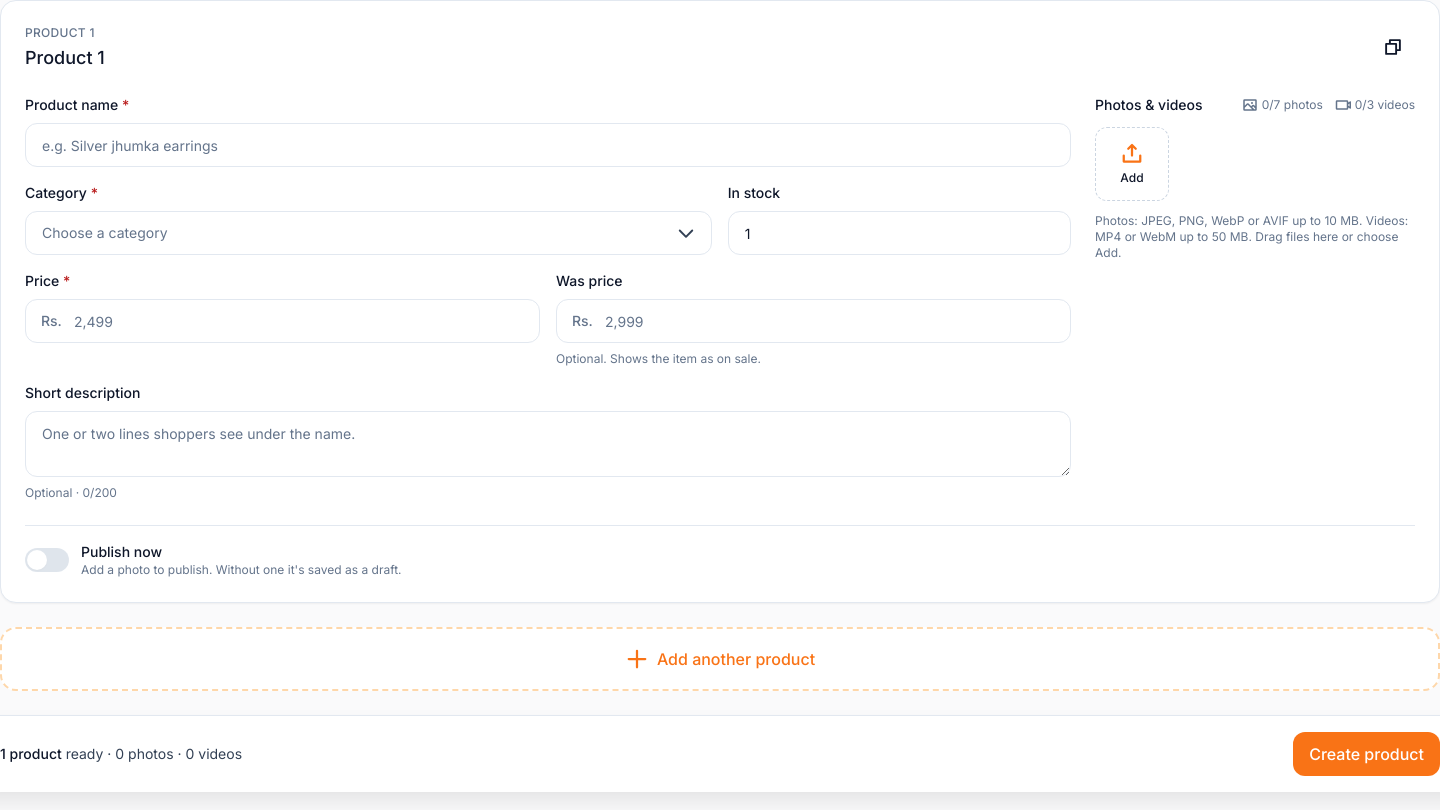
BulkProductsForm › keeps a failed product editable with the server's message
Click the dropdown labelled "Choose a category": (105, 232) left=25, top=211, right=712, bottom=255
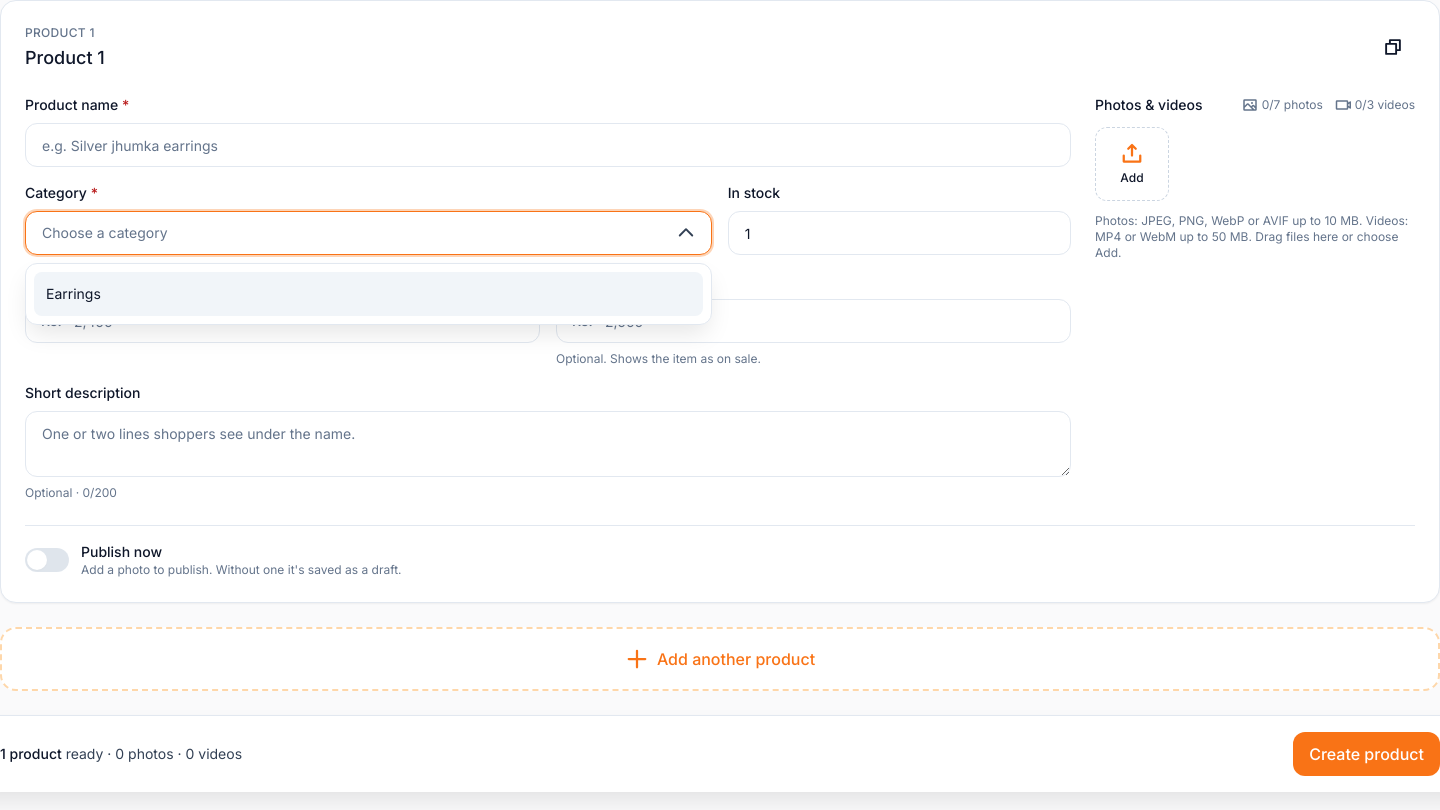
Click the option "Earrings": (73, 294) left=34, top=272, right=703, bottom=316
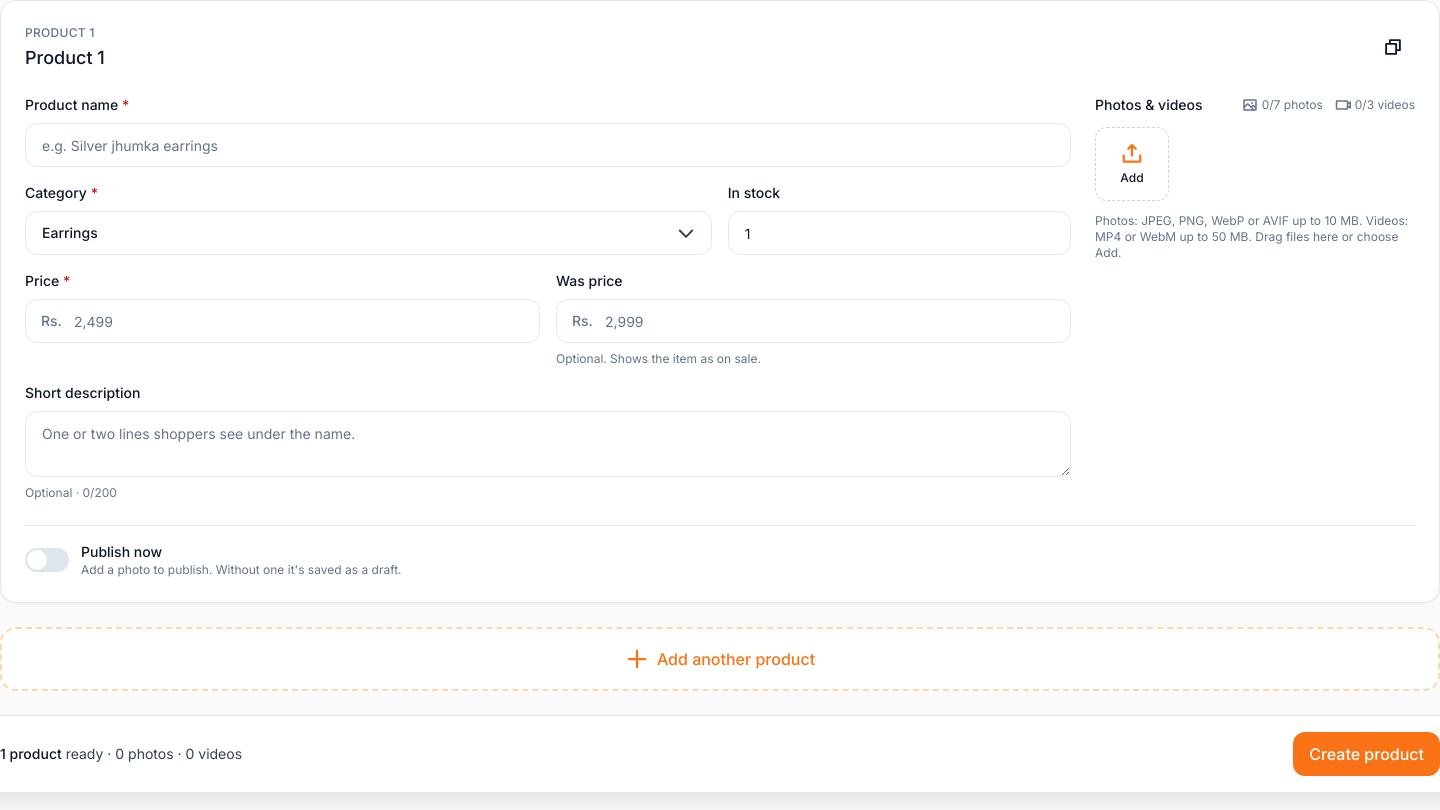
In the field labelled "Product name *": (548, 145) left=25, top=123, right=1071, bottom=167, type "Silver Hoop"
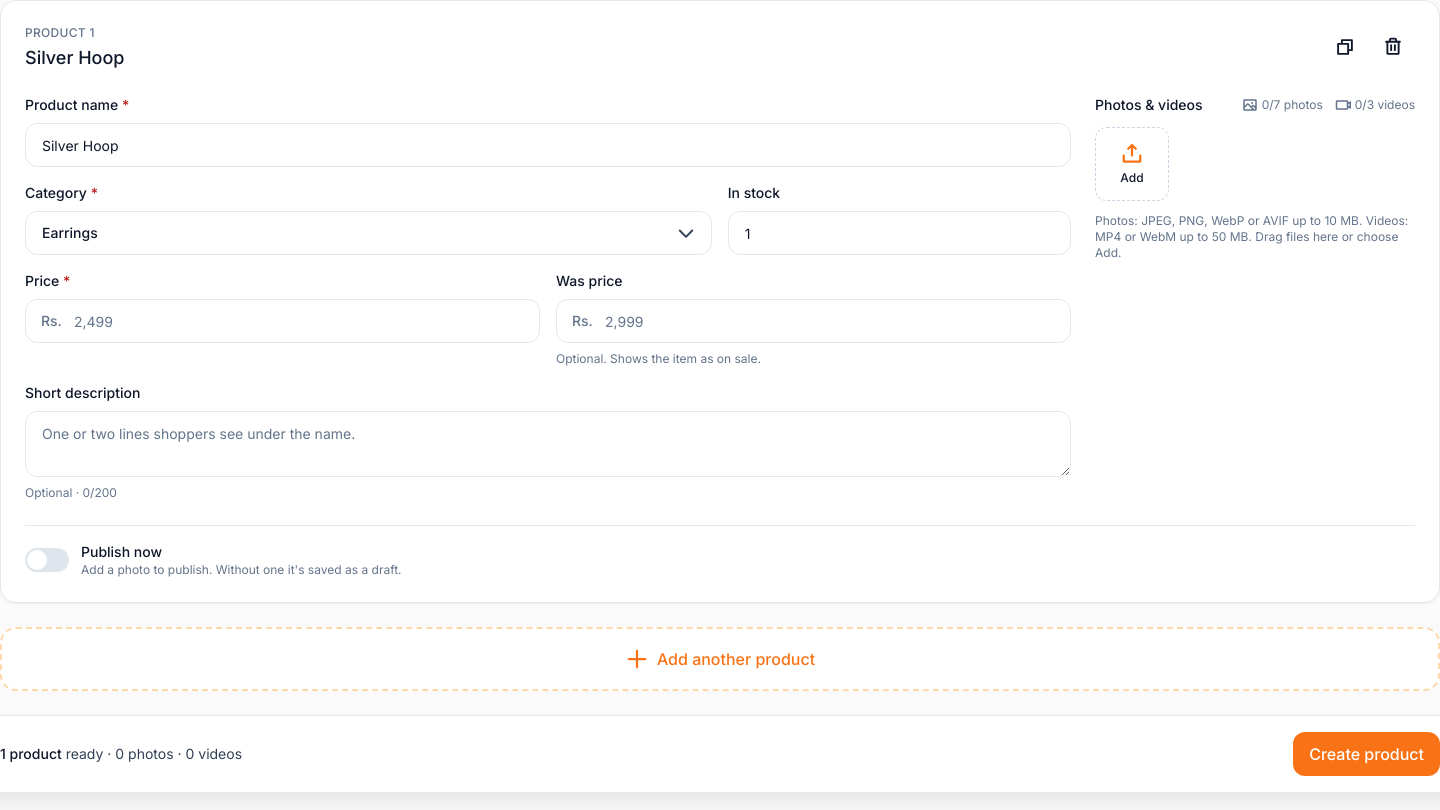
In the field labelled "Price *": (282, 321) left=25, top=299, right=540, bottom=343, type "1,200"
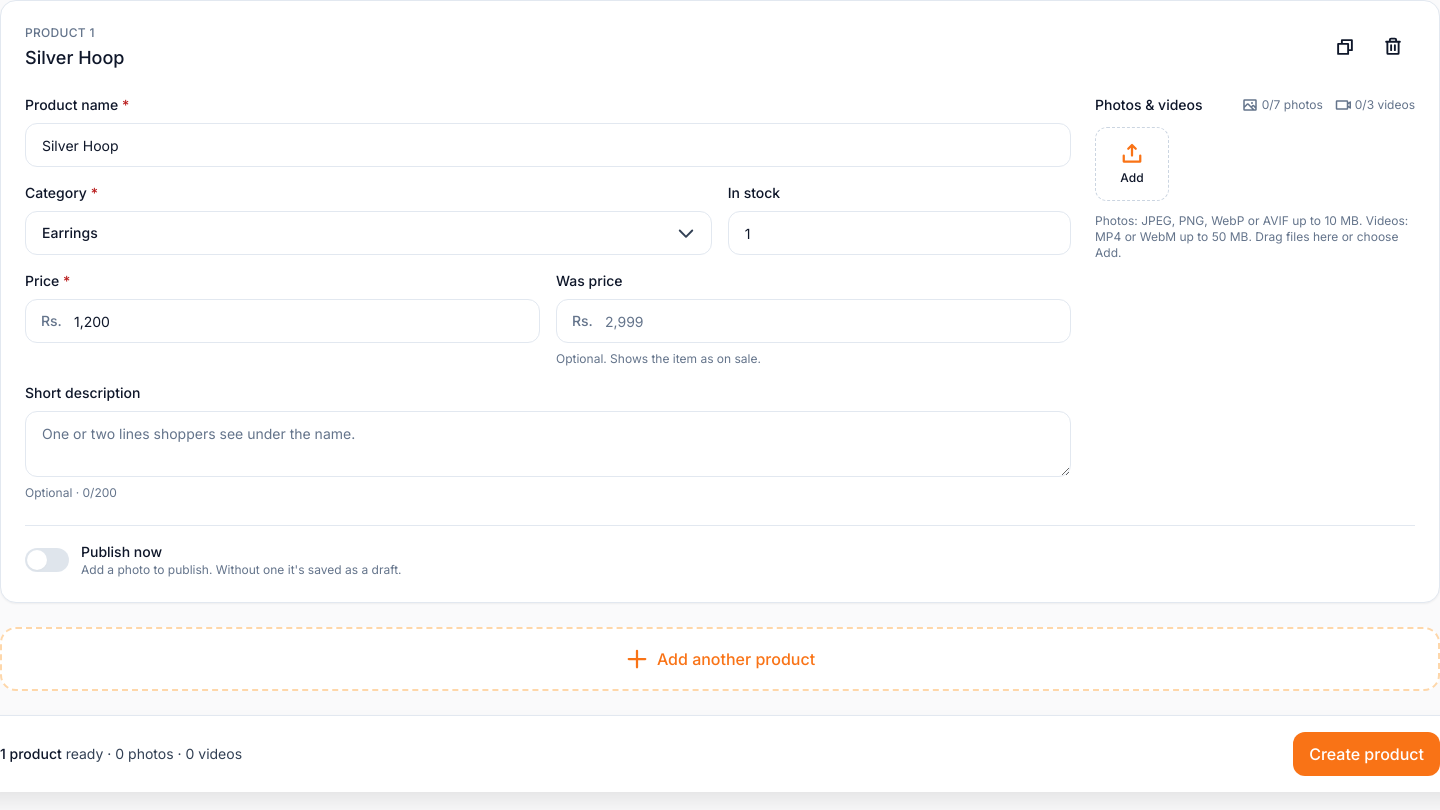
Click the button "Create product": (1367, 754) left=1293, top=732, right=1439, bottom=776
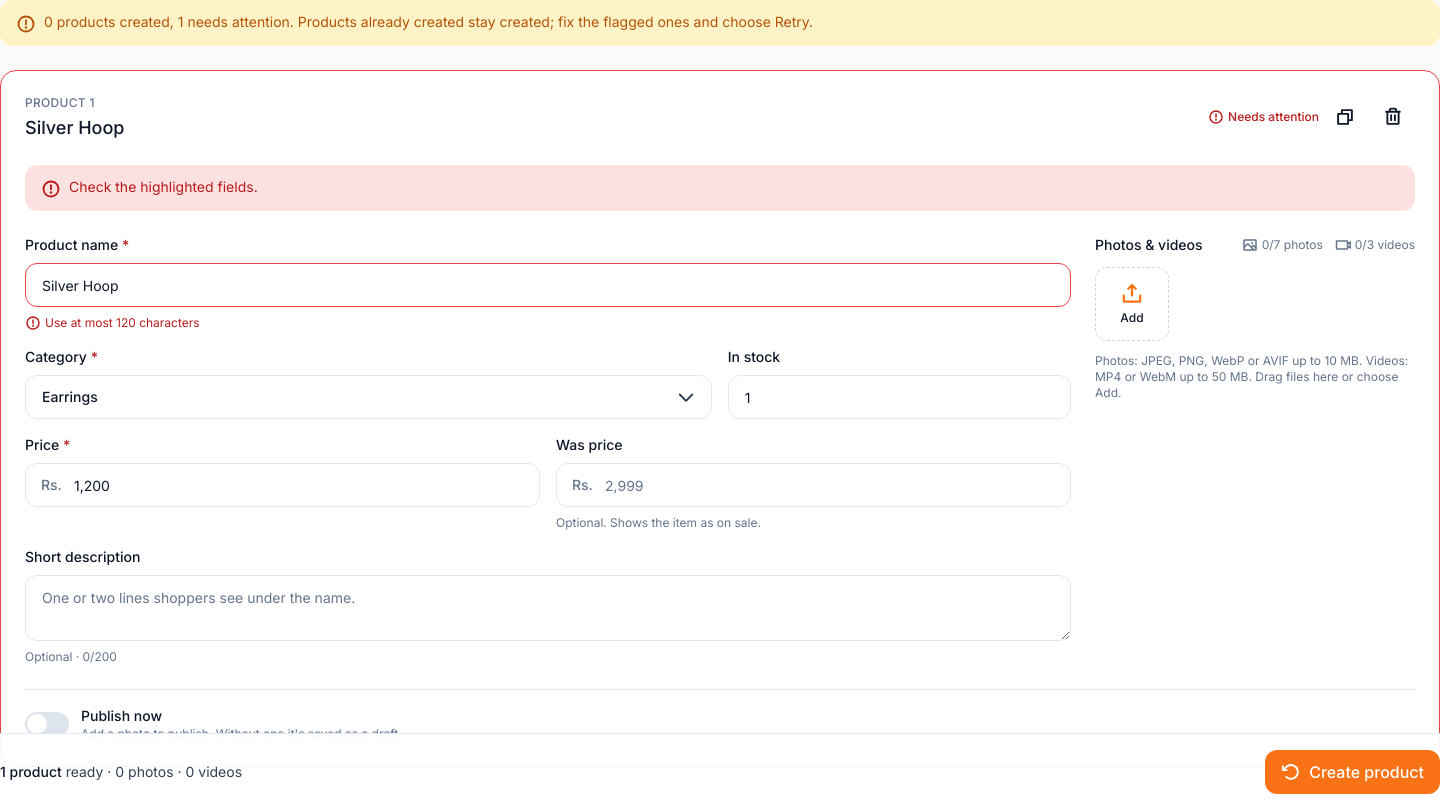
Expected: the field labelled "Product name *" is enabled, left=25, top=263, right=1071, bottom=307
Result: the text "Use at most 120 characters" is shown at left=25, top=315, right=200, bottom=331
Result: the text "Needs attention" is shown at left=1208, top=109, right=1319, bottom=125
